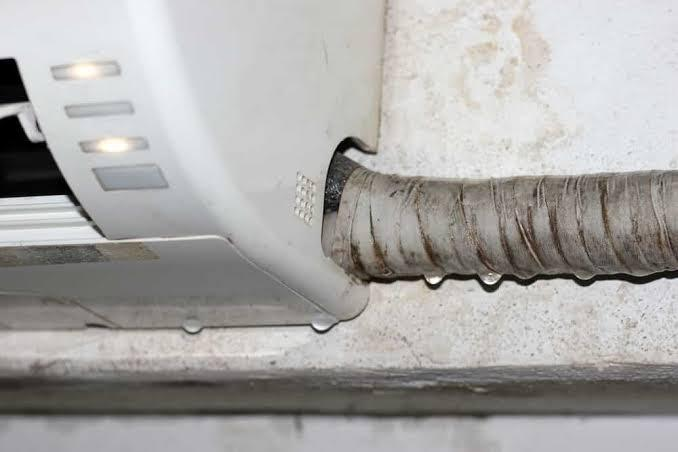water drop: (478, 267, 501, 287), (576, 268, 597, 286), (182, 320, 205, 336), (310, 317, 335, 331), (424, 269, 444, 286)
